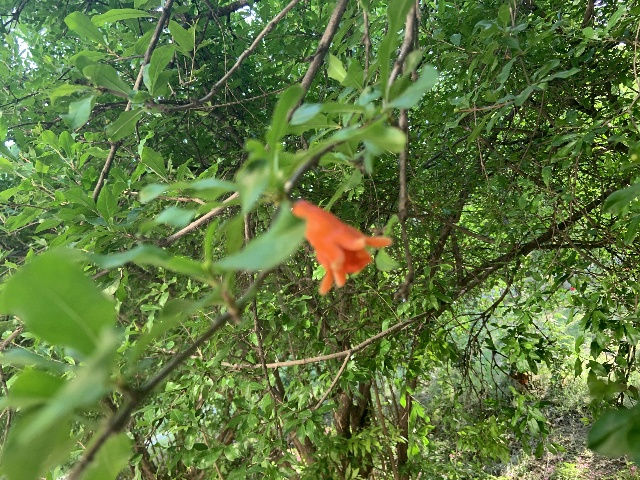flower: (292, 200, 393, 294)
